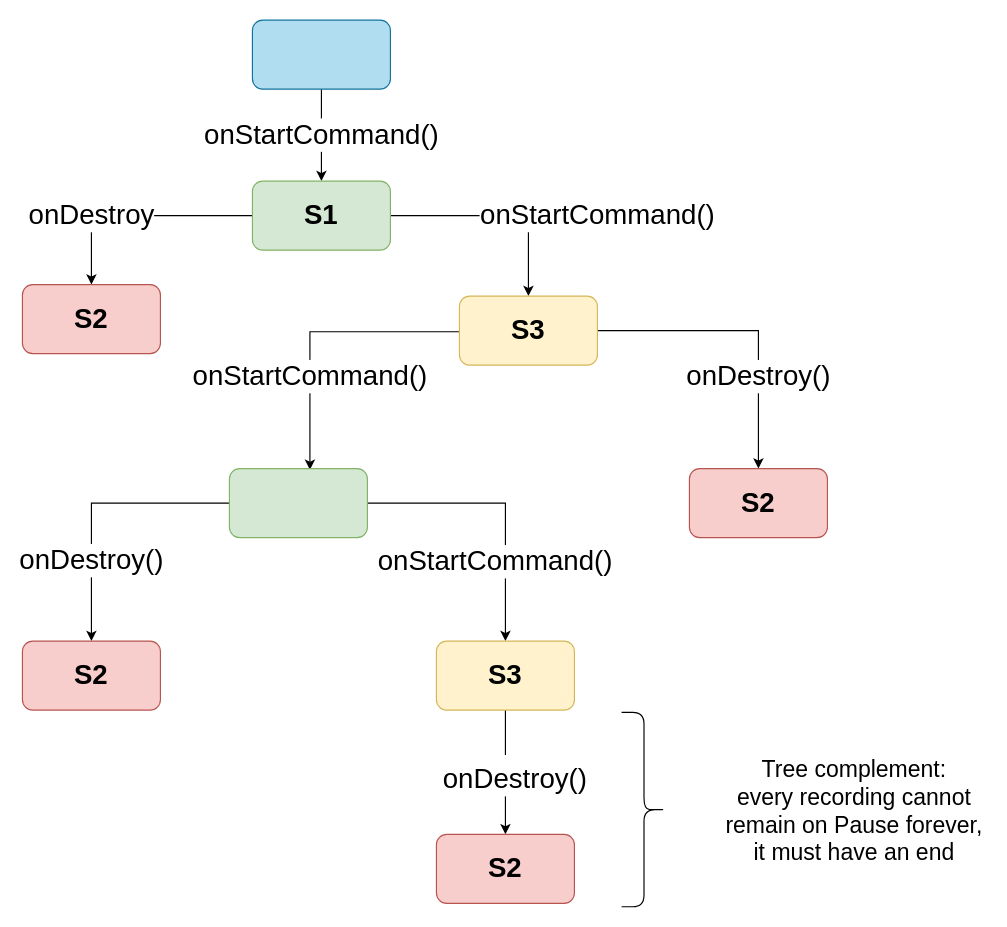
The diagram is 1007 pixels wide and 927 high, and some of its shapes have lost their labels. Here are the shapes that lost their labels. From the top down, the centre of each, then its label:
At (x=320, y=54): "S0".
At (x=297, y=502): "S4".
